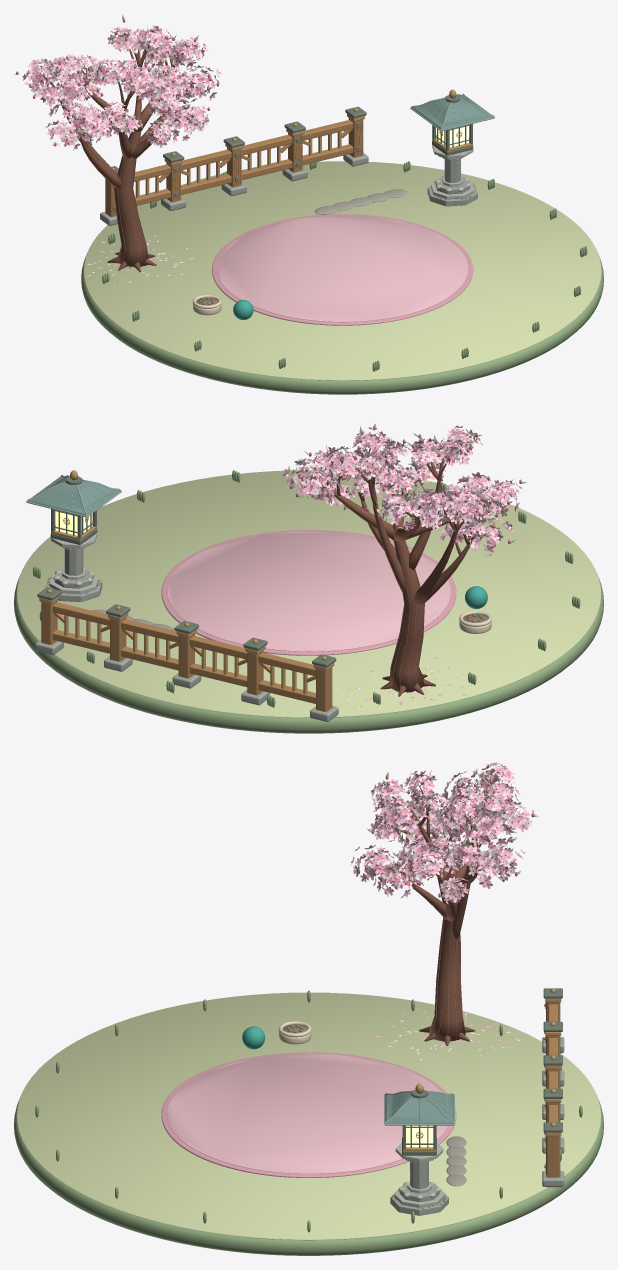
The model's file is sakura.glb.
3 views of the same model, one above another, from view 1: azimuth 30°, elevation 25°; view 2: azimuth 150°, elevation 25°; view 3: azimuth 270°, elevation 25° (orthographic). The views are drawn at different scales.
Parts seen in each view (by area): view 1: Sakura_S_grass.004, Sakura_S_rug.004, Sakura_S_edge.004, Sakura_v2_Petal_pearl, Sakura_v2_Petal_blush, Garden_v3_Honey_cedar.001, Sakura_v2_Bark_warm_umber, Garden_v3_Warm_grey_granite.001, Sakura_v2_Petal_rose, Sakura_S_rug_edge.004, Garden_v3_Aged_bronze.001, Garden_v3_Glazed_sage_roof.001 (+7 smaller); view 2: Sakura_S_grass.004, Sakura_S_rug.004, Sakura_S_edge.004, Garden_v3_Honey_cedar.001, Sakura_v2_Petal_pearl, Sakura_v2_Bark_warm_umber, Sakura_v2_Petal_blush, Garden_v3_Warm_grey_granite.001, Sakura_v2_Petal_rose, Sakura_S_rug_edge.004, Garden_v3_Cedar_endgrain.001, Garden_v3_Aged_bronze.001 (+10 smaller); view 3: Sakura_S_grass.004, Sakura_S_rug.004, Sakura_S_edge.004, Sakura_v2_Petal_pearl, Sakura_v2_Petal_blush, Sakura_v2_Bark_warm_umber, Sakura_S_rug_edge.004, Sakura_v2_Petal_rose, Garden_v3_Warm_grey_granite.001, Garden_v3_Glazed_sage_roof.001, Garden_v3_Honey_cedar.001, Garden_v3_Aged_bronze.001 (+6 smaller).
Part boxes in pixels (x1,y1,x2,y2): Sakura_S_grass.004: [83, 161, 601, 380]; Sakura_S_rug.004: [217, 215, 468, 322]; Sakura_S_edge.004: [81, 161, 603, 394]; Sakura_v2_Petal_pearl: [23, 25, 220, 282]; Sakura_v2_Petal_blush: [22, 26, 221, 287]; Garden_v3_Honey_cedar.001: [105, 118, 363, 216]; Sakura_v2_Bark_warm_umber: [40, 26, 208, 271]; Garden_v3_Warm_grey_granite.001: [100, 153, 477, 225]; Sakura_v2_Petal_rose: [16, 18, 219, 146]; Sakura_S_rug_edge.004: [212, 214, 473, 325]; Garden_v3_Aged_bronze.001: [111, 95, 473, 211]; Garden_v3_Glazed_sage_roof.001: [412, 95, 492, 129]; Sakura_S_grass.004: [16, 470, 601, 717]; Sakura_S_rug.004: [167, 531, 450, 651]; Sakura_S_edge.004: [14, 470, 603, 733]; Garden_v3_Honey_cedar.001: [41, 600, 332, 711]; Sakura_v2_Petal_pearl: [286, 428, 521, 708]; Sakura_v2_Bark_warm_umber: [304, 427, 513, 696]; Sakura_v2_Petal_blush: [282, 425, 521, 707]; Garden_v3_Warm_grey_granite.001: [35, 548, 338, 721]; Sakura_v2_Petal_rose: [289, 426, 521, 547]; Sakura_S_rug_edge.004: [161, 530, 456, 655]; Garden_v3_Cedar_endgrain.001: [39, 595, 334, 693]; Garden_v3_Aged_bronze.001: [37, 476, 336, 667]; Sakura_S_grass.004: [16, 992, 601, 1240]; Sakura_S_rug.004: [167, 1053, 447, 1174]; Sakura_S_edge.004: [14, 990, 603, 1255]; Sakura_v2_Petal_pearl: [351, 762, 536, 1063]; Sakura_v2_Petal_blush: [351, 763, 537, 1053]; Sakura_v2_Bark_warm_umber: [375, 769, 522, 1045]; Sakura_S_rug_edge.004: [161, 1052, 456, 1177]; Sakura_v2_Petal_rose: [356, 763, 534, 901]; Garden_v3_Warm_grey_granite.001: [390, 1037, 564, 1215]; Garden_v3_Glazed_sage_roof.001: [385, 1092, 453, 1123]; Garden_v3_Honey_cedar.001: [546, 1002, 560, 1177]; Garden_v3_Aged_bronze.001: [402, 988, 562, 1170].
Size of the model in its own units: 6.65 by 3.23 by 6.4.
